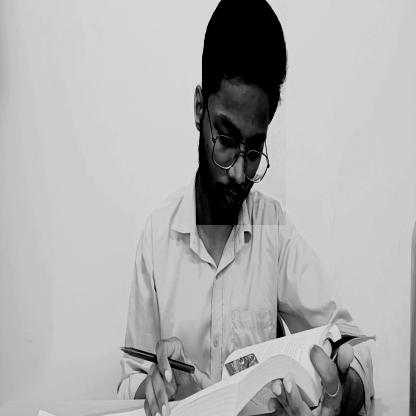Distracted: (196, 0, 286, 225)
